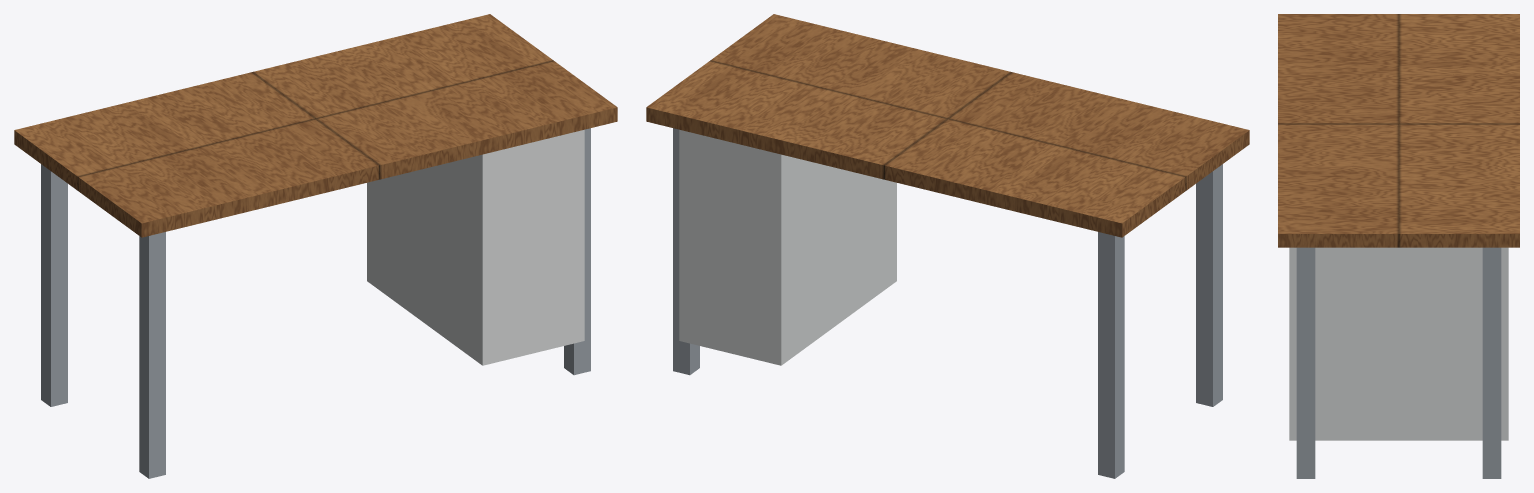
File: Iroasztal.obj
3 renders of one model, left to right at view 1: azimuth 30°, elevation 25°; view 2: azimuth 150°, elevation 25°; view 3: azimuth 270°, elevation 25°, orthographic. The views are drawn at different scales.
Bounding box in the file's own units: 1.4 × 0.75 × 0.65.
3 materials, 1 textured.
